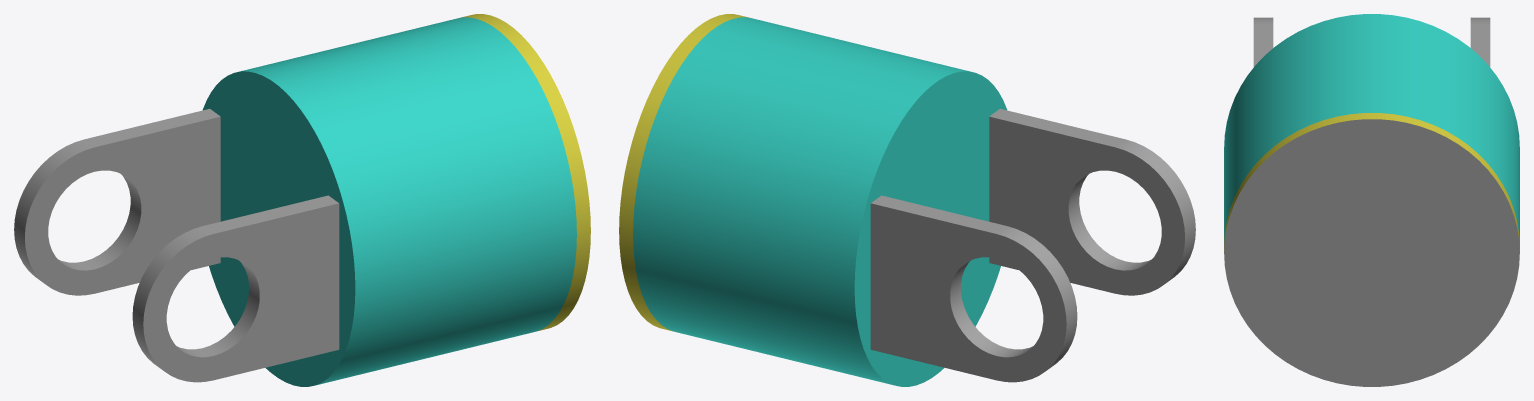
Rendered from arm_upper_dexter.obj.
3 views of the same model, side by side, from view 1: azimuth 30°, elevation 25°; view 2: azimuth 150°, elevation 25°; view 3: azimuth 270°, elevation 25° (orthographic). The views are drawn at different scales.
Parts seen in each view (by area): view 1: Body6, Body8, Body7, Body1; view 2: Body6, Body7, Body8, Body1; view 3: Body1, Body6, Body7, Body8.
Boxes of the visible parts, left/top/right/bottom form: Body6: left=202, top=17, right=576, bottom=386; Body8: left=132, top=195, right=339, bottom=382; Body7: left=14, top=108, right=220, bottom=295; Body1: left=458, top=14, right=590, bottom=331; Body6: left=633, top=17, right=1007, bottom=386; Body7: left=870, top=195, right=1077, bottom=382; Body8: left=989, top=108, right=1195, bottom=295; Body1: left=619, top=14, right=751, bottom=331; Body1: left=1224, top=113, right=1519, bottom=386; Body6: left=1224, top=14, right=1519, bottom=245; Body7: left=1470, top=17, right=1490, bottom=66; Body8: left=1253, top=17, right=1273, bottom=66.
Size of the model in its own units: 0.185 by 0.1199 by 0.12.
